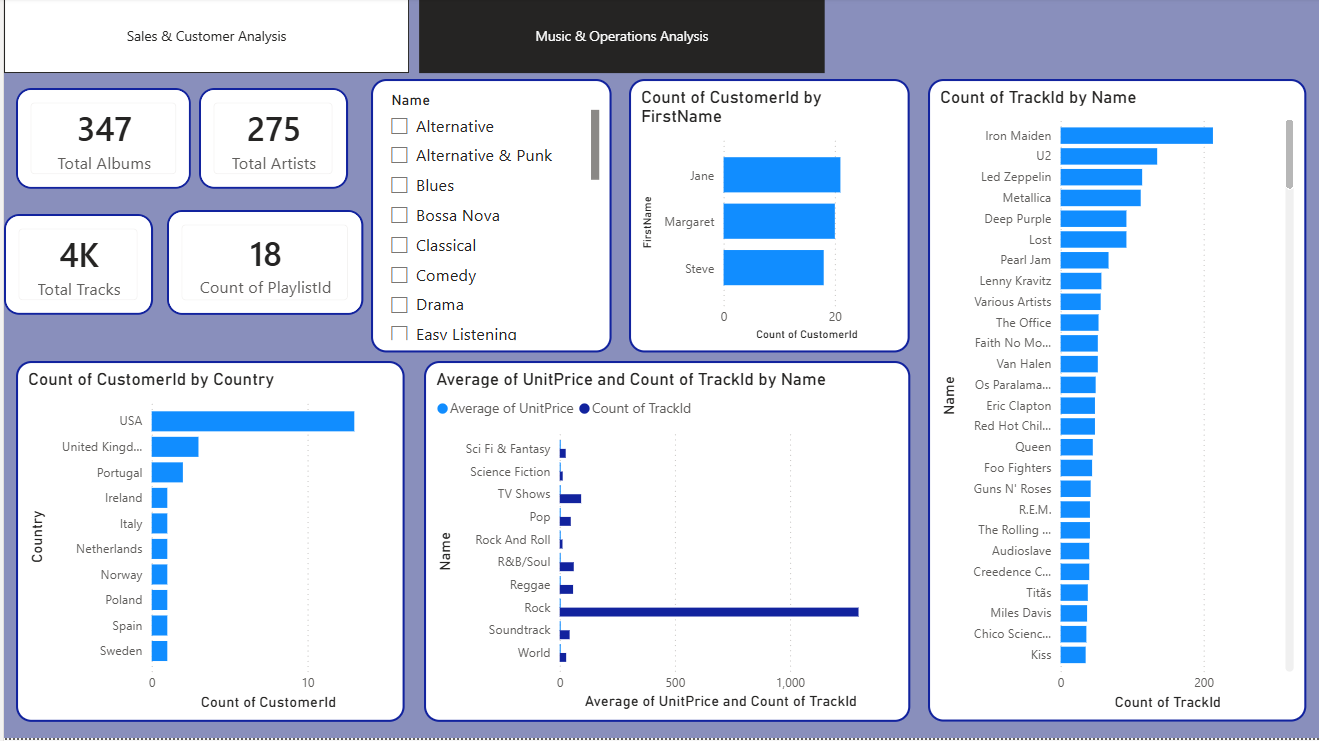

This screenshot's page, from the dashboard's own definition file:
{"tool":"powerbi","page":{"name":"Music & Operations Analysis","canvas":[1280,720],"ordinal":1},"visuals":[{"type":"barChart","fields":{"Category":["Customer.Country"],"Y":["CountNonNull(Customer.CustomerId)"]},"box":[11.7,353.1,378.4,351.1],"z":0},{"type":"clusteredBarChart","fields":{"Category":["Employee.FirstName"],"Y":["CountNonNull(Customer.CustomerId)"]},"box":[607.9,78.8,273.3,265.5],"z":1000},{"type":"clusteredBarChart","fields":{"Category":["Genre.Name"],"Y":["Avg(Track.UnitPrice)","CountNonNull(Track.TrackId)"]},"box":[408.5,353.1,472.7,351.1],"z":3000},{"type":"cardVisual","fields":{"Data":["Album.Total Albums"]},"box":[11.7,87.5,170.2,98.2],"z":4000},{"type":"cardVisual","fields":{"Data":["Artist.Total Artists"]},"box":[189.7,87.5,144.9,98.2],"z":5000},{"type":"cardVisual","fields":{"Data":["Track.Total Tracks"]},"box":[0,210.1,144.9,98.2],"z":6000},{"type":"slicer","fields":{"Values":["Genre.Name"]},"box":[357,78.8,234.4,265.5],"z":7000},{"type":"pageNavigator","box":[0,0,798.5,73.9],"z":8000},{"type":"barChart","fields":{"Category":["Artist.Name"],"Y":["CountNonNull(Track.TrackId)"]},"box":[898.7,78.8,367.7,625.4],"z":9000},{"type":"cardVisual","fields":{"Data":["CountNonNull(Playlist.PlaylistId)"]},"box":[158.5,206.2,190.6,102.1],"z":10000}]}

Visuals, with their boxes in screenshot pixels (x1, y1, x2, y2), scaled from the page's 1280x720 canvas onto the 1319x741 screenshot:
barChart - Customer.Country x CountNonNull(Customer.CustomerId): {"left": 12, "top": 363, "right": 402, "bottom": 725}
clusteredBarChart - Employee.FirstName x CountNonNull(Customer.CustomerId): {"left": 626, "top": 81, "right": 908, "bottom": 354}
clusteredBarChart - Genre.Name x Avg(Track.UnitPrice): {"left": 421, "top": 363, "right": 908, "bottom": 725}
cardVisual - Album.Total Albums: {"left": 12, "top": 90, "right": 187, "bottom": 191}
cardVisual - Artist.Total Artists: {"left": 195, "top": 90, "right": 345, "bottom": 191}
cardVisual - Track.Total Tracks: {"left": 0, "top": 216, "right": 149, "bottom": 317}
slicer - Genre.Name: {"left": 368, "top": 81, "right": 609, "bottom": 354}
pageNavigator: {"left": 0, "top": 0, "right": 823, "bottom": 76}
barChart - Artist.Name x CountNonNull(Track.TrackId): {"left": 926, "top": 81, "right": 1305, "bottom": 725}
cardVisual - CountNonNull(Playlist.PlaylistId): {"left": 163, "top": 212, "right": 360, "bottom": 317}
